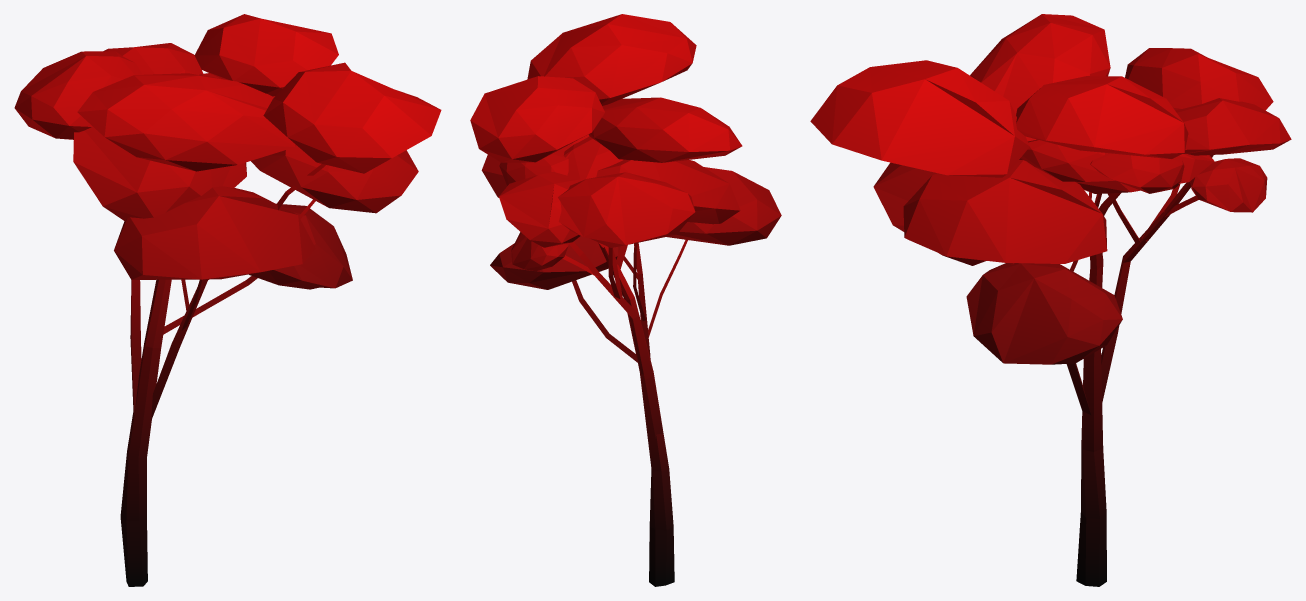
File: TreeCedar03.fbx
3 views of the same model, side by side, from view 1: azimuth 30°, elevation 25°; view 2: azimuth 150°, elevation 25°; view 3: azimuth 270°, elevation 25° (orthographic). The views are drawn at different scales.
Visible parts, largest first — view 1: TreeCedar03_LOD0; view 2: TreeCedar03_LOD0; view 3: TreeCedar03_LOD0.
Part boxes in pixels (x1=…): TreeCedar03_LOD0: x1=14, y1=14, x2=441, y2=586; TreeCedar03_LOD0: x1=470, y1=14, x2=781, y2=586; TreeCedar03_LOD0: x1=810, y1=14, x2=1291, y2=586.
Size of what is drawn, in the model's own units: 473 by 805 by 611.
